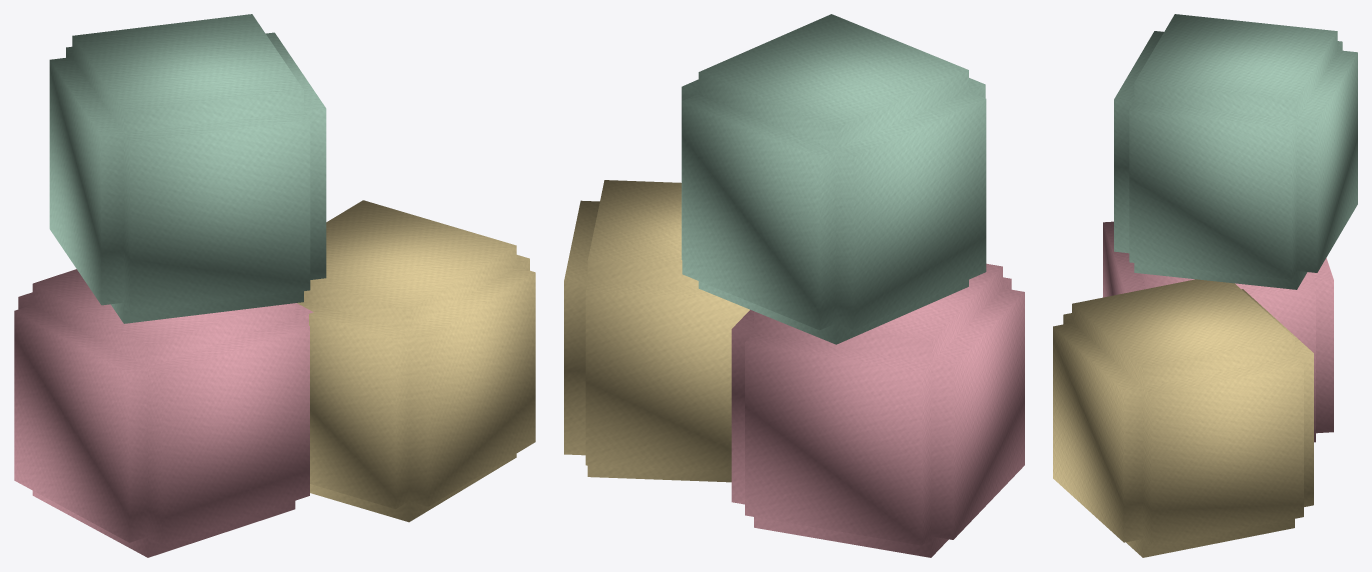
File: Cubes.glb
3 views of the same model, side by side, from view 1: azimuth 30°, elevation 25°; view 2: azimuth 150°, elevation 25°; view 3: azimuth 270°, elevation 25° (orthographic). The views are drawn at different scales.
Visible parts, largest first — view 1: Cube_1, Cube_0, Cube_2; view 2: Cube_1, Cube_0, Cube_2; view 3: Cube_2, Cube_1, Cube_0.
Part boxes in pixels (x1=…): Cube_1: x1=49, y1=14, x2=326, y2=323; Cube_0: x1=14, y1=269, x2=313, y2=557; Cube_2: x1=297, y1=200, x2=535, y2=522; Cube_1: x1=681, y1=14, x2=986, y2=344; Cube_0: x1=731, y1=263, x2=1024, y2=557; Cube_2: x1=564, y1=180, x2=749, y2=482; Cube_2: x1=1053, y1=279, x2=1313, y2=557; Cube_1: x1=1114, y1=14, x2=1357, y2=289; Cube_0: x1=1103, y1=221, x2=1333, y2=442.
Bounding box in the file's own units: 0.2608 × 0.24 × 0.1745.
3 materials, 3 textured.
